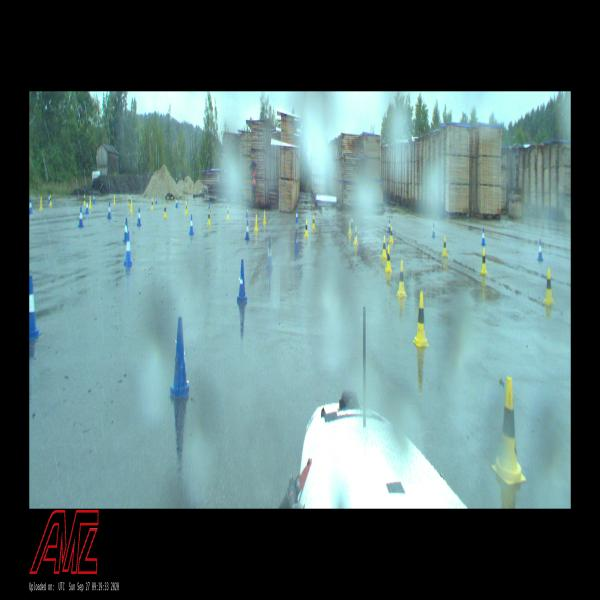blue_cone: (169, 317, 190, 397), (29, 276, 42, 340), (237, 260, 247, 301), (123, 232, 132, 266), (266, 238, 273, 269), (78, 207, 84, 227), (123, 218, 128, 242), (538, 240, 543, 261), (189, 214, 194, 234), (294, 230, 298, 253), (107, 202, 112, 219), (245, 220, 249, 240), (137, 207, 141, 226), (29, 198, 33, 214), (86, 199, 90, 214), (482, 228, 485, 245), (432, 222, 435, 238), (208, 201, 211, 212), (175, 197, 178, 207), (388, 219, 390, 233), (351, 215, 353, 228), (155, 196, 158, 204), (296, 210, 298, 222), (93, 193, 95, 204), (246, 206, 248, 217), (48, 194, 50, 203), (130, 194, 131, 203)
yellow_cone: (492, 377, 526, 486), (413, 291, 429, 347), (543, 267, 554, 306), (396, 260, 407, 298), (385, 245, 392, 272), (480, 248, 487, 274), (382, 235, 387, 259), (442, 235, 447, 256), (354, 226, 358, 245), (254, 214, 258, 231), (207, 209, 211, 225), (348, 220, 352, 235), (226, 206, 230, 220), (39, 196, 43, 210), (390, 226, 393, 244), (305, 220, 308, 237), (312, 214, 315, 230), (164, 203, 167, 218), (130, 198, 133, 213), (263, 210, 266, 224), (185, 202, 188, 215), (89, 196, 92, 209), (50, 194, 53, 206), (151, 198, 154, 209), (113, 195, 116, 205), (84, 194, 86, 205), (128, 196, 130, 206)
